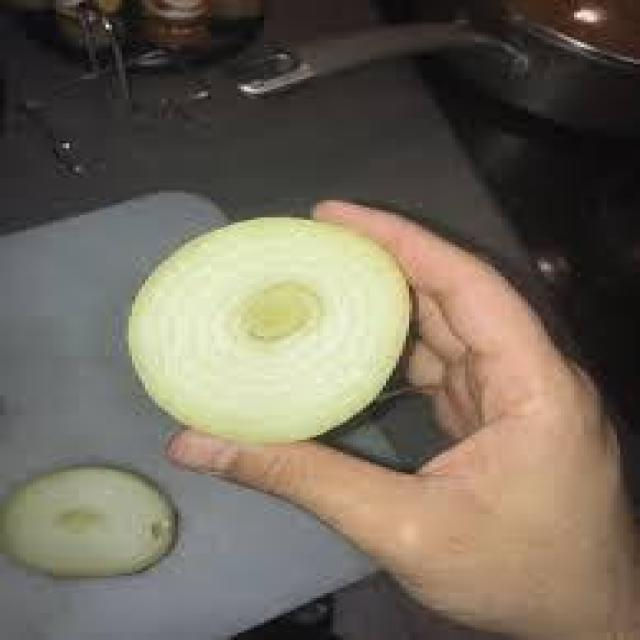Onion: (129, 210, 419, 447), (0, 462, 175, 576)
